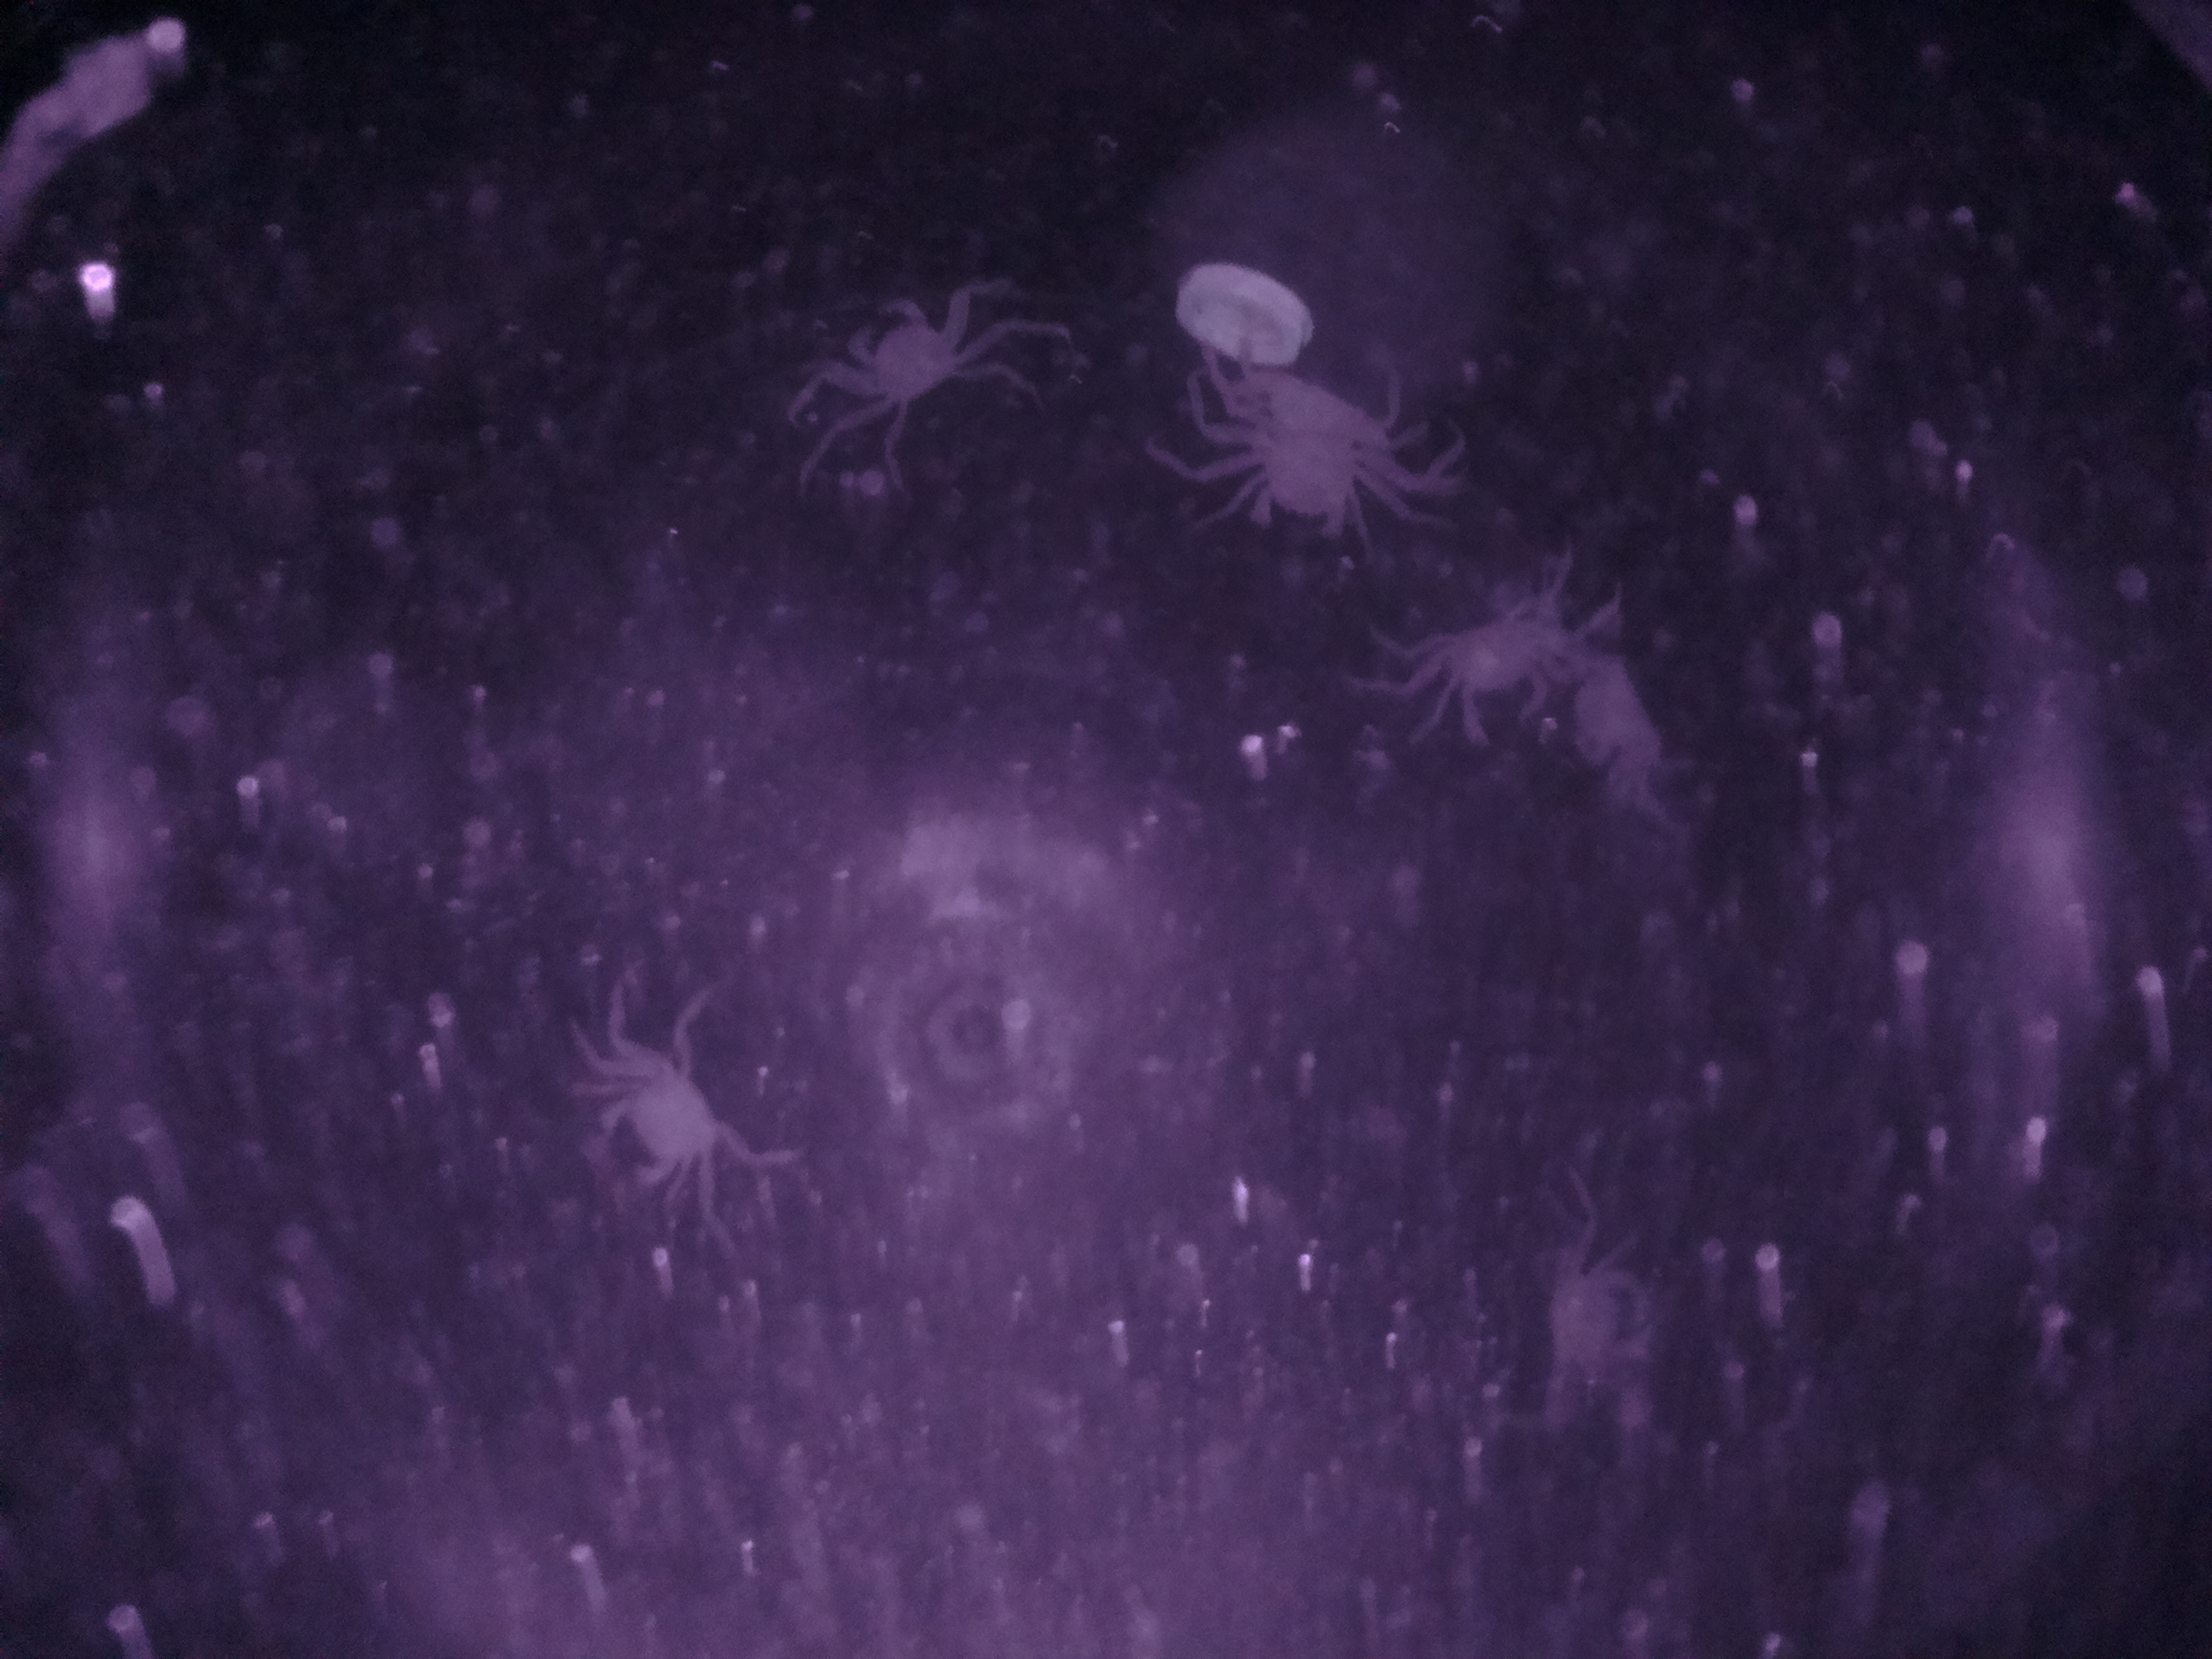Crab: (571, 985, 777, 1256), (789, 256, 1035, 474), (1211, 403, 1407, 554)
